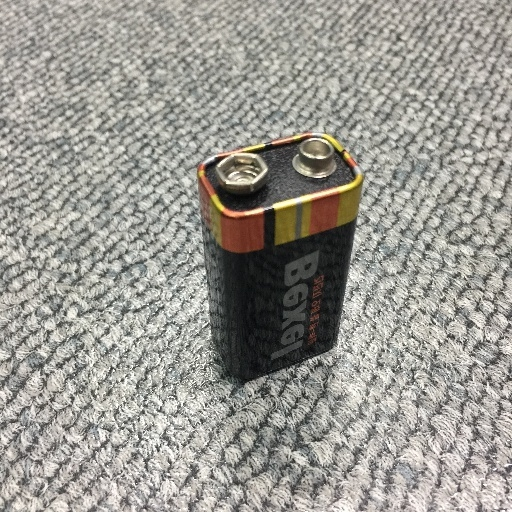Battery_3: (177, 111, 382, 396)
